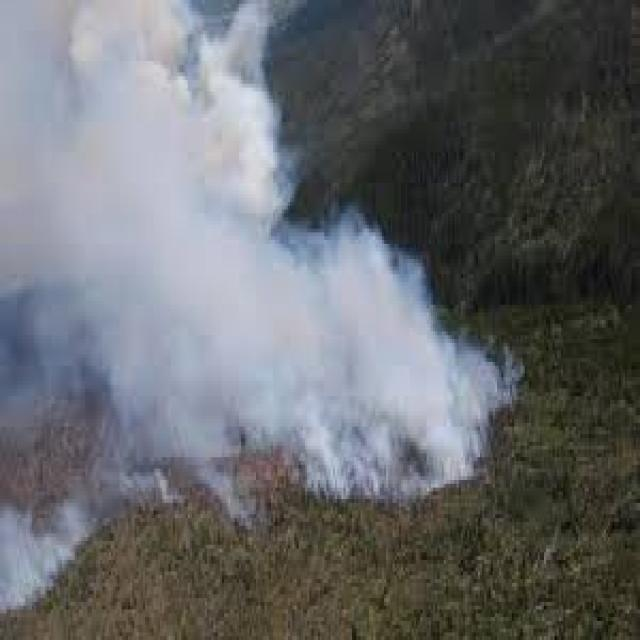Smoke: (108, 218, 508, 496), (0, 0, 292, 228), (0, 475, 108, 621)
